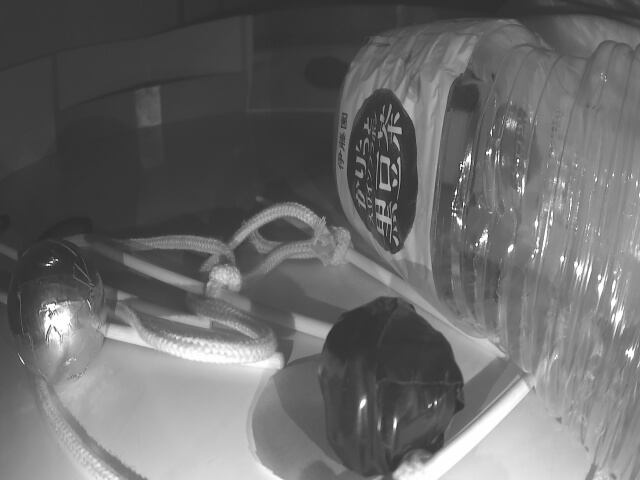Dead: (318, 290, 462, 480)
Live: (4, 235, 110, 382)
Point: (58, 72, 246, 152)
